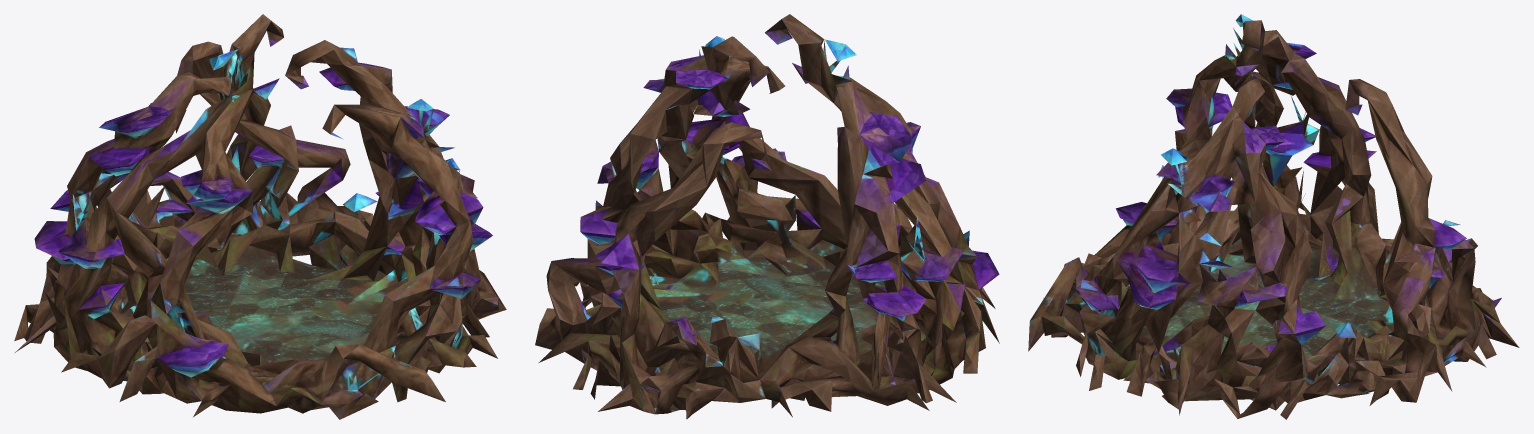
The model's file is heartroot.glb.
3 renders of one model, left to right at view 1: azimuth 30°, elevation 25°; view 2: azimuth 150°, elevation 25°; view 3: azimuth 270°, elevation 25°, orthographic. The views are drawn at different scales.
Size of the model in its own units: 1.91 by 1.36 by 2.
1 material, 1 textured.
